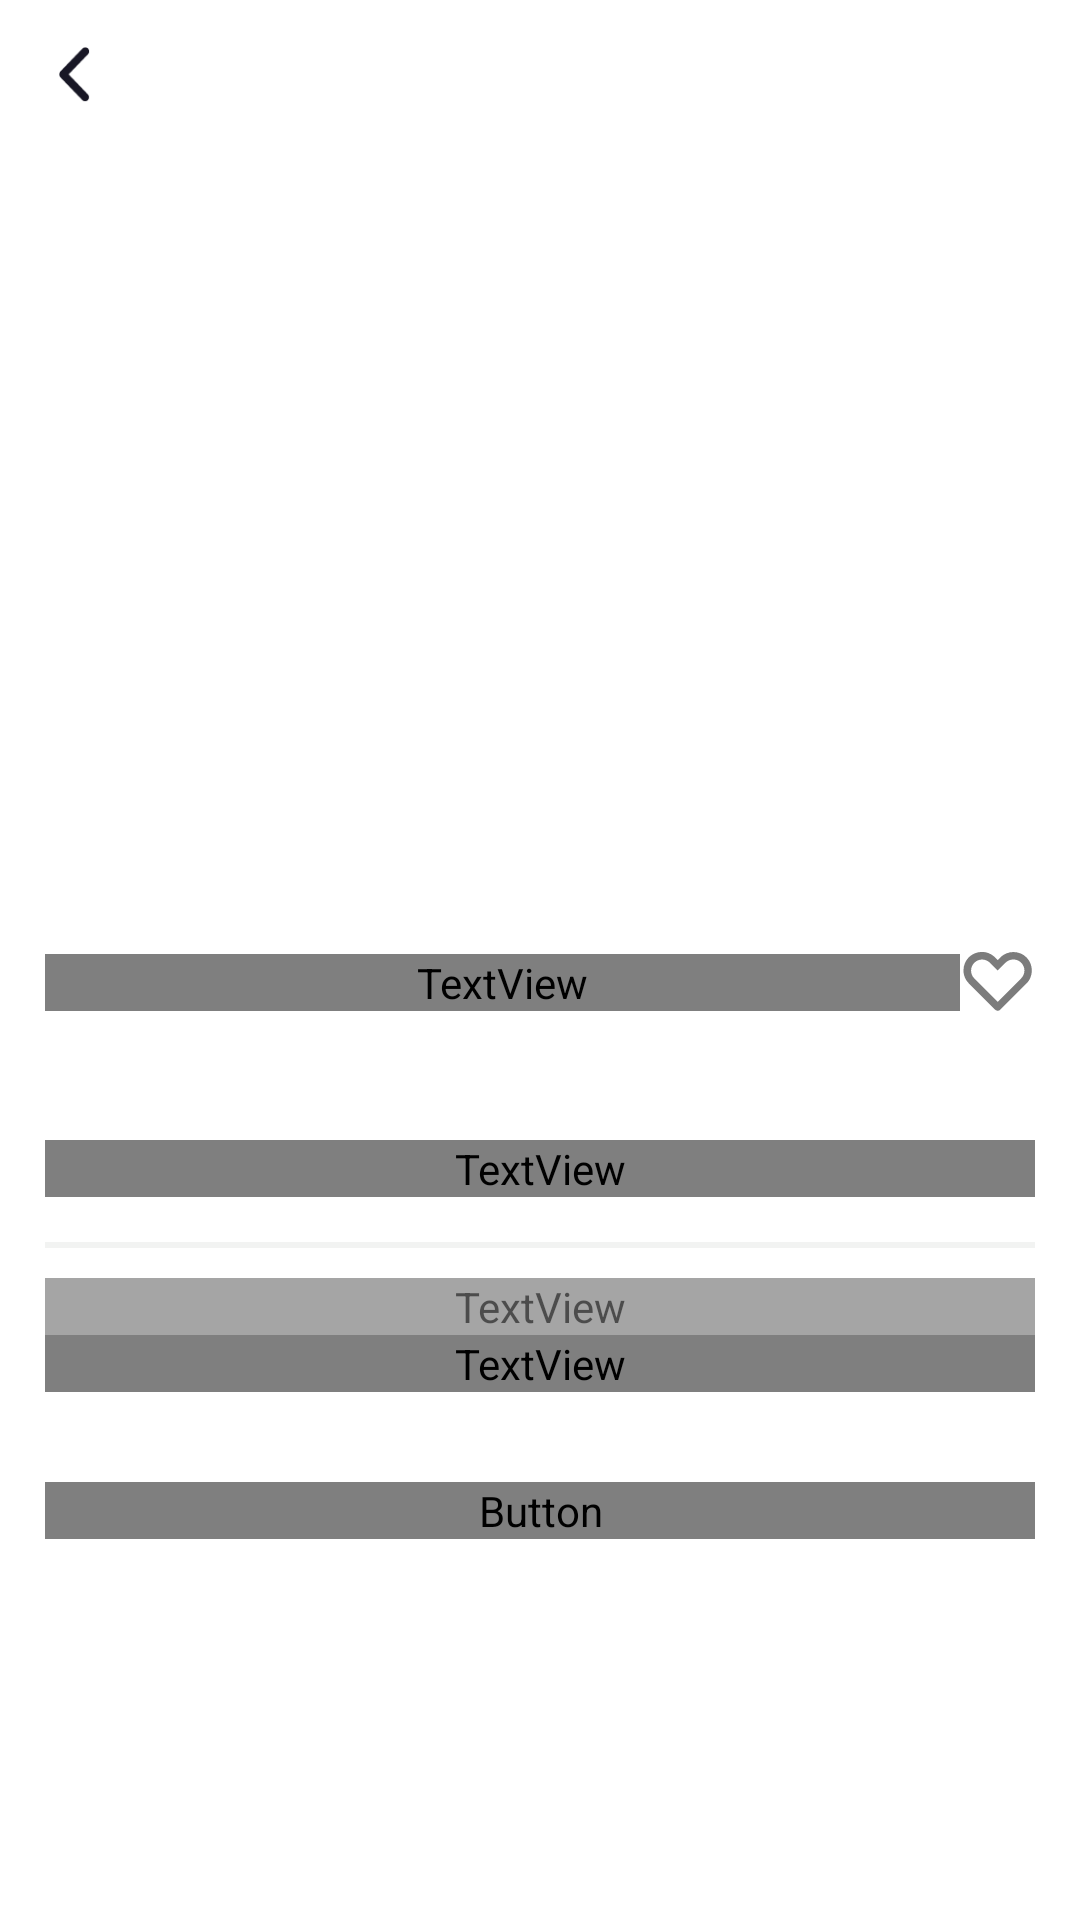

Icons on this 1080w x 1920h Android screen, each with the point to tap as (x=x, y=y):
back arrow: (x=74, y=74)
favourite: (x=997, y=981)
